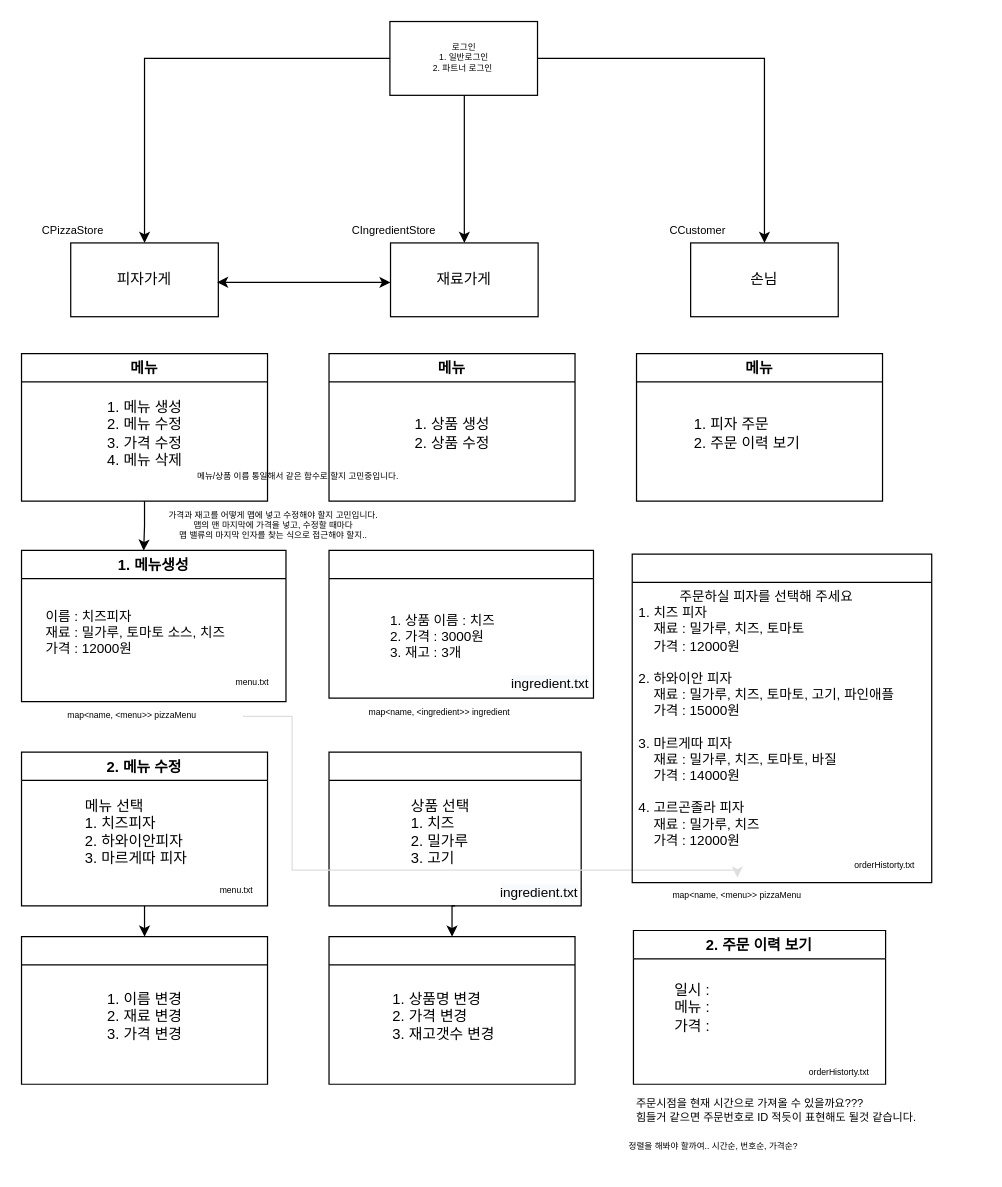
Image size: 1002x1187. Some labels were removed from this diagram. Each missing label, with the box of its shape:
1. 상품 생성: (328, 549, 593, 698)
1. 치즈: (328, 935, 575, 1084)
1. 치즈피자: (20, 935, 268, 1084)
1. 피자 주문: (631, 553, 932, 883)
2. 상품 수정: (328, 751, 581, 906)
